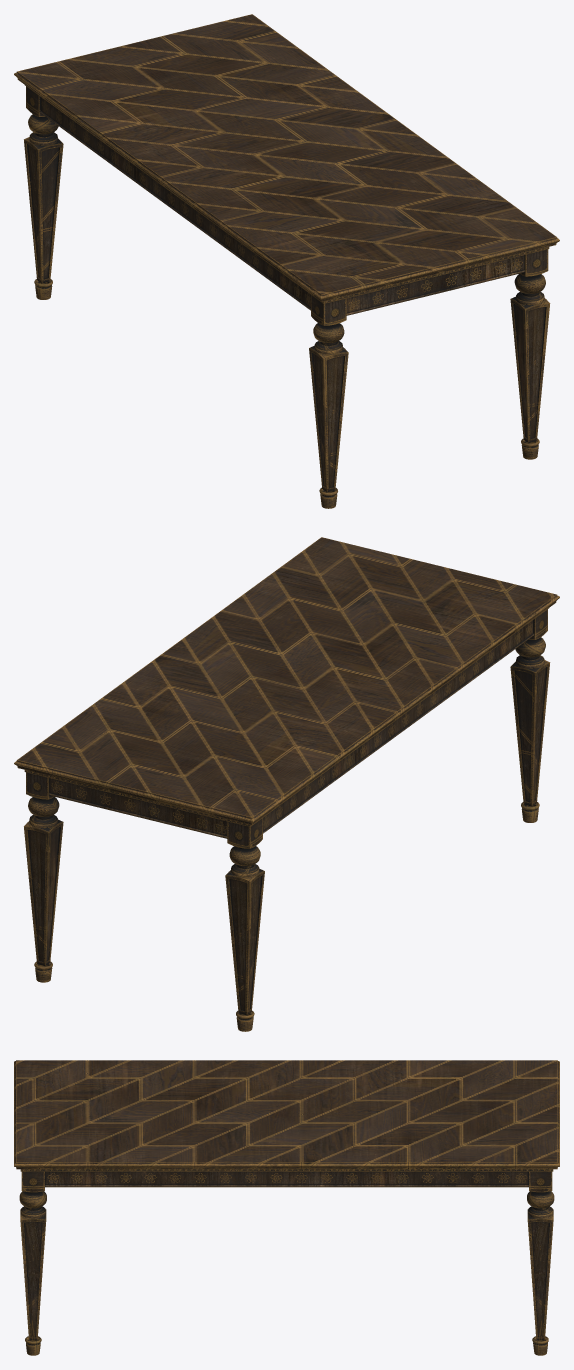
File: SM_DinnerTable.fbx
The picture shows the model from 3 angles, top to bottom: view 1: azimuth 30°, elevation 25°; view 2: azimuth 150°, elevation 25°; view 3: azimuth 270°, elevation 25°; orthographic projection. The views are drawn at different scales.
Parts seen in each view (by area): view 1: SM_DinnerTable_LOD0; view 2: SM_DinnerTable_LOD0; view 3: SM_DinnerTable_LOD0.
Part boxes in pixels (x1,y1,x2,y2): SM_DinnerTable_LOD0: (14,14,559,508); SM_DinnerTable_LOD0: (14,537,559,1031); SM_DinnerTable_LOD0: (14,1060,559,1355).
Bounding box in the file's own units: 142 × 315 × 126.
Materials: 1 (1 with a texture image).
